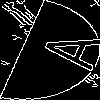A: (25, 25, 100, 71)
